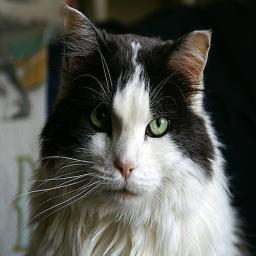catnose: (113, 156, 139, 179)
